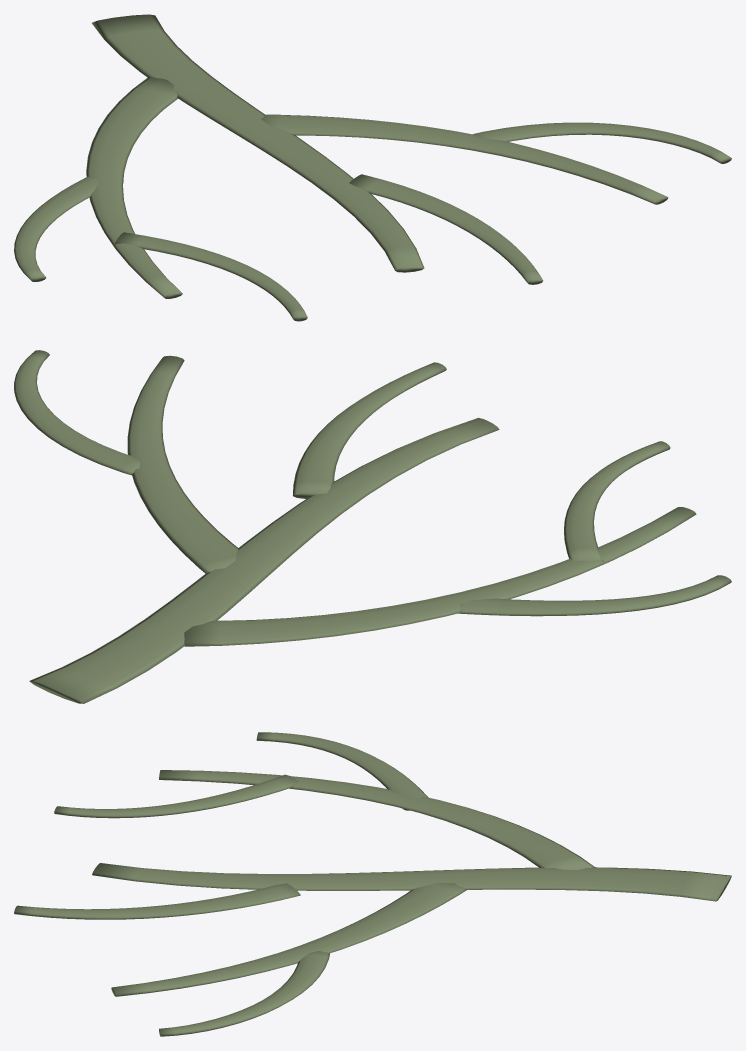
File: bosworthia.glb
3 renders of one model, top to bottom at view 1: azimuth 30°, elevation 25°; view 2: azimuth 150°, elevation 25°; view 3: azimuth 270°, elevation 25°, orthographic. The views are drawn at different scales.
Visible parts, largest first — view 1: preserved-flat-flexible-ribbon-thallus-fragment; view 2: preserved-flat-flexible-ribbon-thallus-fragment; view 3: preserved-flat-flexible-ribbon-thallus-fragment.
Boxes of the visible parts, box(x1,y1,x2,y2) form: preserved-flat-flexible-ribbon-thallus-fragment: box(14, 14, 731, 321); preserved-flat-flexible-ribbon-thallus-fragment: box(14, 350, 731, 703); preserved-flat-flexible-ribbon-thallus-fragment: box(14, 732, 731, 1036).
Size of the model in its own units: 0.1199 by 0.00163 by 0.12.
